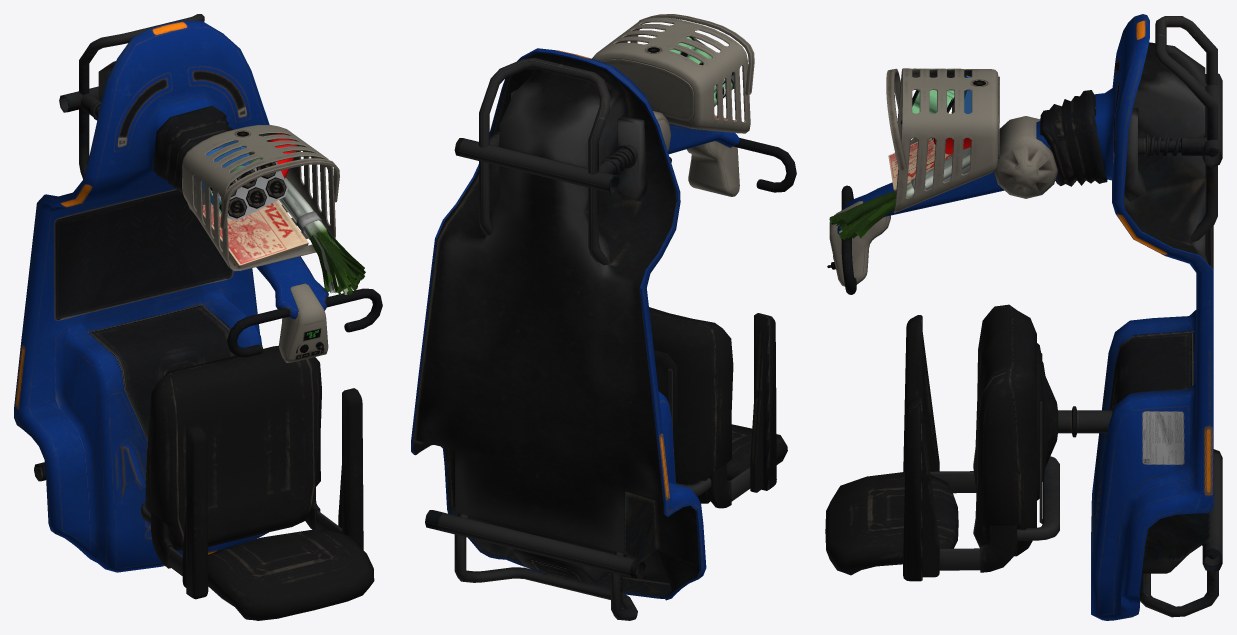
The model's file is quadri.obj.
3 views of the same model, side by side, from view 1: azimuth 30°, elevation 25°; view 2: azimuth 150°, elevation 25°; view 3: azimuth 270°, elevation 25° (orthographic). The views are drawn at different scales.
Parts seen in each view (by area): view 1: Quadri_Сіть; view 2: Quadri_Сіть; view 3: Quadri_Сіть.
Part boxes in pixels (bbox=[...]): Quadri_Сіть: bbox=[14, 14, 382, 620]; Quadri_Сіть: bbox=[411, 14, 796, 620]; Quadri_Сіть: bbox=[825, 14, 1222, 620].
Bounding box in the file's own units: 0.8116 × 1.66 × 1.07.
Materials: 1 (1 with a texture image).
